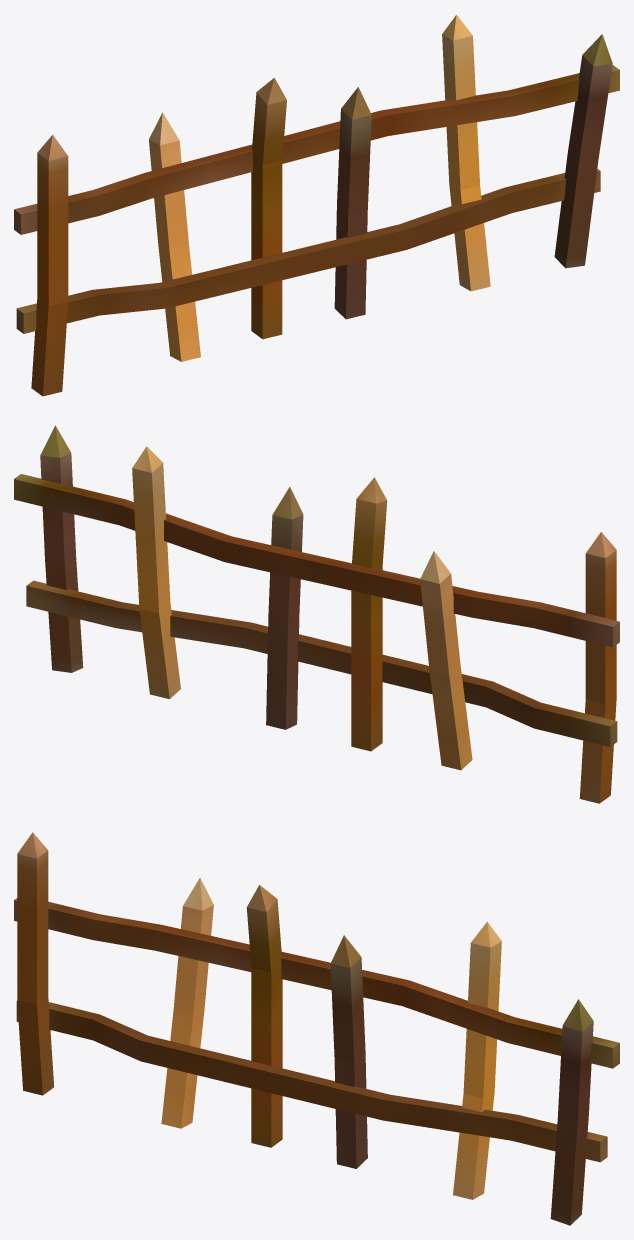
File: mega-pack-cube-243.glb
The picture shows the model from 3 angles, top to bottom: view 1: azimuth 30°, elevation 25°; view 2: azimuth 150°, elevation 25°; view 3: azimuth 330°, elevation 25°; orthographic projection.
Parts seen in each view (by area): view 1: Cube.243; view 2: Cube.243; view 3: Cube.243.
Boxes of the visible parts, x1=… form: Cube.243: x1=14, y1=15, x2=619, y2=396; Cube.243: x1=14, y1=425, x2=619, y2=803; Cube.243: x1=14, y1=832, x2=619, y2=1225.
Bounding box in the file's own units: 1.66 × 0.6998 × 0.1885.
1 material, 1 textured.
